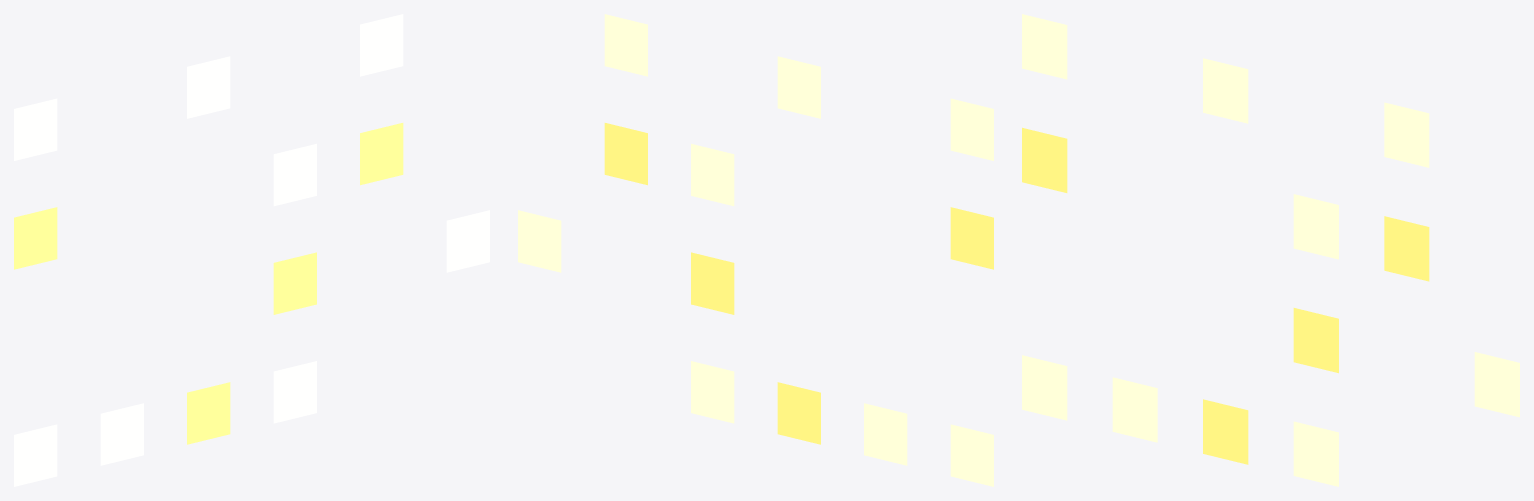
File: window-lights-5.glb
3 views of the same model, side by side, from view 1: azimuth 30°, elevation 25°; view 2: azimuth 150°, elevation 25°; view 3: azimuth 330°, elevation 25° (orthographic). The views are drawn at different scales.
Parts seen in each view (by area): view 1: window warm, window amber; view 2: window warm, window amber; view 3: window warm, window amber.
Part boxes in pixels (left/top/right/bottom): window warm: left=14, top=14, right=489, bottom=486; window amber: left=14, top=123, right=403, bottom=444; window warm: left=518, top=14, right=993, bottom=486; window amber: left=604, top=123, right=993, bottom=444; window warm: left=1022, top=14, right=1519, bottom=486; window amber: left=1022, top=127, right=1429, bottom=464.
Size of the model in its own units: 0.9167 by 0.696 by 0.
